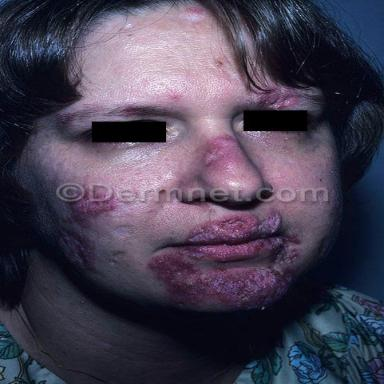Lupus-Erythematosus-Chronicus-Discoides: (149, 237, 302, 311), (189, 211, 281, 245), (58, 233, 97, 266), (203, 136, 240, 166), (72, 200, 117, 215)
